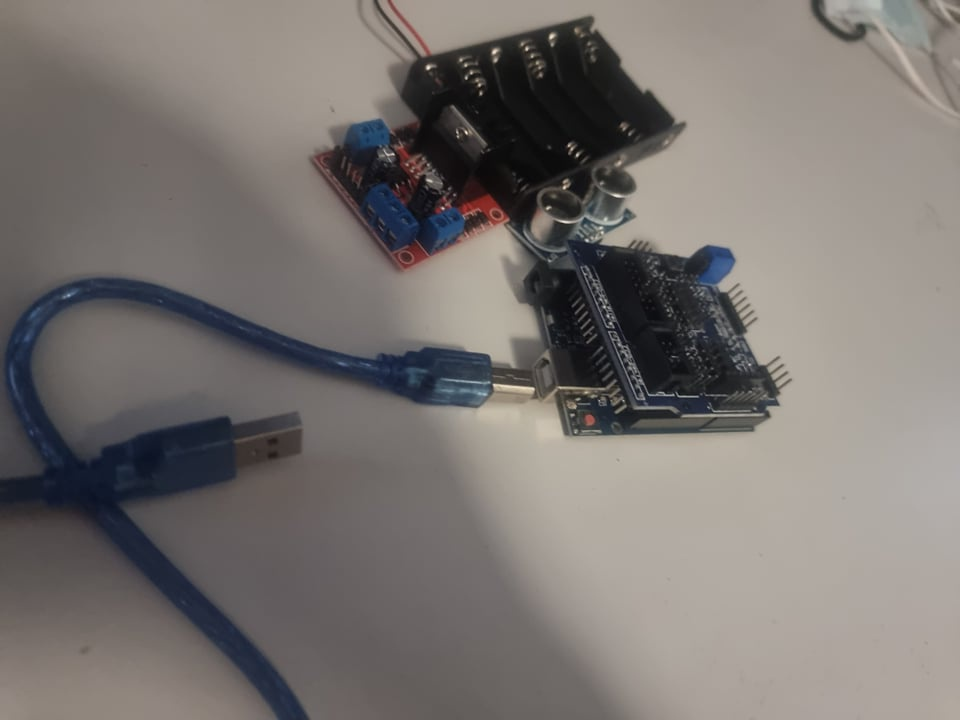5V EXPANSION: (596, 237, 784, 404)
BATTERY BOX: (409, 11, 687, 198)
MOTOR: (312, 96, 509, 271)
SENSOR: (513, 165, 643, 250)
UNO R3: (519, 258, 611, 451)
